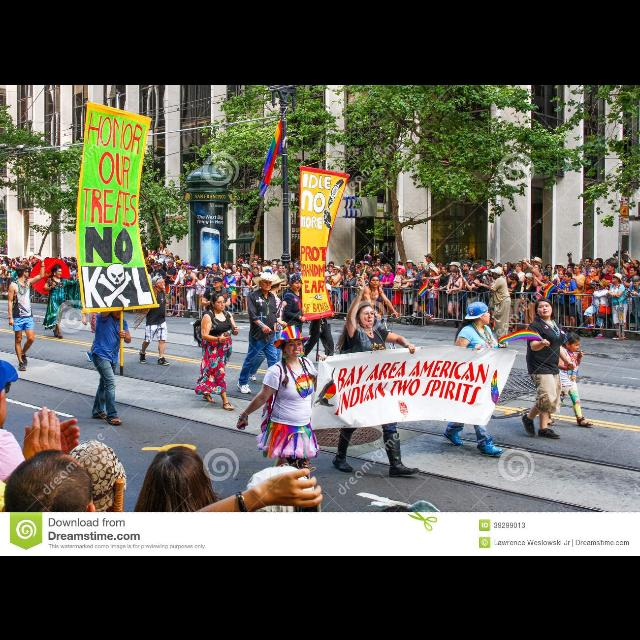head: (354, 300, 376, 330), (280, 334, 306, 356), (468, 302, 492, 324), (536, 296, 554, 318), (110, 298, 126, 318), (565, 332, 581, 352), (210, 292, 226, 310), (15, 263, 30, 279), (258, 276, 274, 290), (270, 273, 282, 291), (153, 274, 167, 288), (290, 274, 302, 290), (369, 274, 381, 288), (212, 276, 224, 288), (314, 280, 326, 292), (52, 266, 62, 278), (612, 272, 622, 282), (492, 270, 501, 280)
person: (329, 266, 425, 478), (233, 321, 329, 515), (441, 298, 507, 460), (520, 293, 578, 445), (234, 270, 286, 394), (190, 289, 242, 411), (88, 298, 134, 427), (540, 330, 594, 432), (243, 270, 289, 382), (6, 254, 48, 372), (346, 272, 402, 346), (134, 272, 172, 366), (43, 262, 85, 341), (300, 279, 336, 367), (480, 264, 512, 350), (282, 272, 308, 368), (200, 274, 232, 338), (606, 269, 630, 341)
